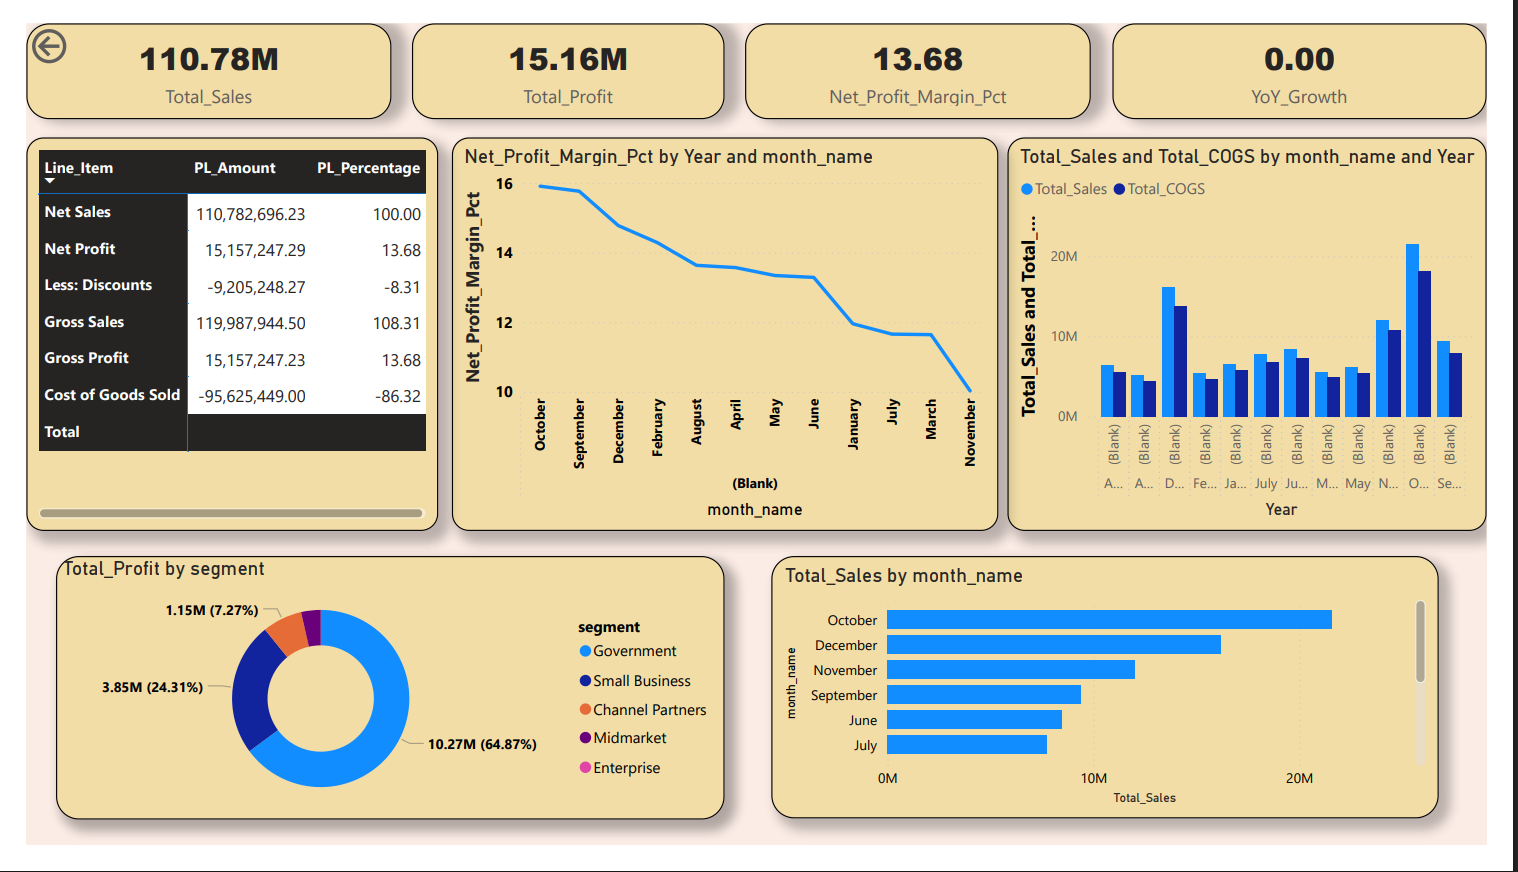

This screenshot's page, from the dashboard's own definition file:
{"tool":"powerbi","page":{"name":"Page 1","canvas":[1280,720],"ordinal":0},"visuals":[{"type":"card","fields":{"Values":["_Measures.Total_Sales"]},"box":[0,0,319.7,83.7],"z":0},{"type":"card","fields":{"Values":["_Measures.Total_Profit"]},"box":[337.6,0,274.4,83.7],"z":1000},{"type":"card","fields":{"Values":["_Financial_Ratios.Net_Profit_Margin_Pct"]},"box":[629.8,0,303.3,83.7],"z":2000},{"type":"card","fields":{"Values":["_Time_Intelligence.Sales_YoY_Growth"]},"box":[952.3,0,328,83.7],"z":3000},{"type":"pivotTable","fields":{"Rows":["PL_Line_Items.Line_Item"],"Values":["PL_Line_Items.PL_Amount","PL_Line_Items.PL_Percentage"]},"box":[0,100.2,360.9,344.4],"z":4000},{"type":"actionButton","box":[0,0,100,40],"z":5000},{"type":"lineChart","fields":{"Category":["Date_Dimension.Year","financial_operations_db fact_sales.month_name"],"Y":["_Financial_Ratios.Net_Profit_Margin_Pct"]},"box":[373.2,100.2,478.9,344.4],"z":6000},{"type":"clusteredColumnChart","fields":{"Category":["financial_operations_db fact_sales.month_name","Date_Dimension.Year"],"Y":["_Measures.Total_Sales","_Measures.Total_COGS"]},"box":[860.4,100.2,419.9,344.4],"z":7000},{"type":"donutChart","fields":{"Category":["financial_operations_db fact_sales.segment"],"Y":["_Measures.Total_Profit"]},"box":[26.1,466.6,585.9,231.9],"z":8000},{"type":"clusteredBarChart","fields":{"Category":["financial_operations_db fact_sales.month_name"],"Y":["_Measures.Total_Sales"]},"box":[653.2,466.6,584.6,230.5],"z":9000}]}

Visuals, with their boxes in screenshot pixels (x1, y1, x2, y2), scaled from the page's 1280x720 canvas onto the 1518x872 screenshot:
card - _Measures.Total_Sales: [left=0, top=0, right=379, bottom=101]
card - _Measures.Total_Profit: [left=400, top=0, right=726, bottom=101]
card - _Financial_Ratios.Net_Profit_Margin_Pct: [left=747, top=0, right=1107, bottom=101]
card - _Time_Intelligence.Sales_YoY_Growth: [left=1129, top=0, right=1517, bottom=101]
pivotTable - PL_Line_Items.Line_Item x PL_Line_Items.PL_Amount: [left=0, top=121, right=428, bottom=538]
actionButton: [left=0, top=0, right=119, bottom=48]
lineChart - Date_Dimension.Year x financial_operations_db fact_sales.month_name: [left=443, top=121, right=1011, bottom=538]
clusteredColumnChart - financial_operations_db fact_sales.month_name x Date_Dimension.Year: [left=1020, top=121, right=1517, bottom=538]
donutChart - financial_operations_db fact_sales.segment x _Measures.Total_Profit: [left=31, top=565, right=726, bottom=846]
clusteredBarChart - financial_operations_db fact_sales.month_name x _Measures.Total_Sales: [left=775, top=565, right=1468, bottom=844]
